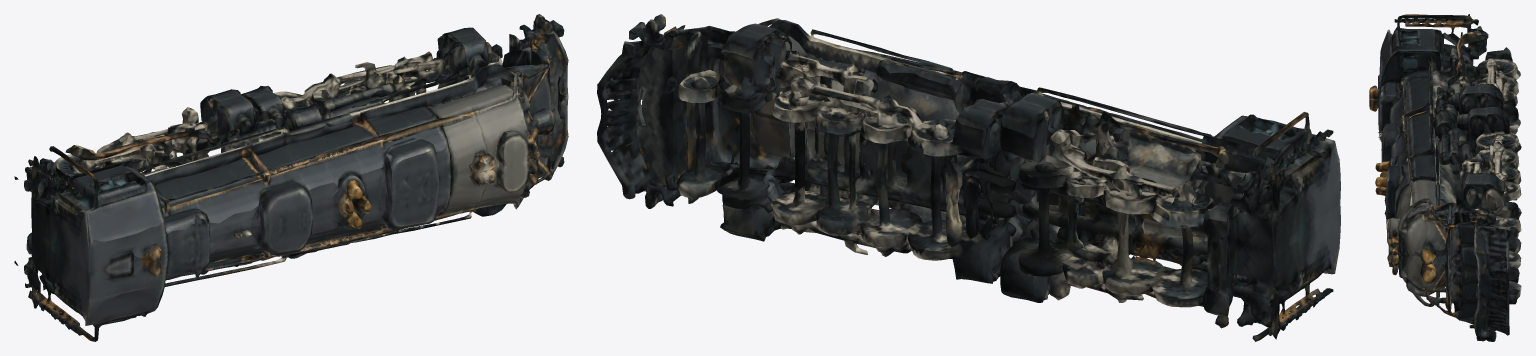
The model's file is big_boy_engine.glb.
3 views of the same model, side by side, from view 1: azimuth 30°, elevation 25°; view 2: azimuth 150°, elevation 25°; view 3: azimuth 270°, elevation 25° (orthographic). The views are drawn at different scales.
Visible parts, largest first — view 1: part_engine; view 2: part_engine; view 3: part_engine.
Boxes of the visible parts, left/top/right/bottom form: part_engine: left=14, top=14, right=568, bottom=341; part_engine: left=597, top=14, right=1340, bottom=341; part_engine: left=1369, top=14, right=1521, bottom=341.
Bounding box in the file's own units: 16.11 × 4.72 × 4.77.
1 material, 1 textured.
